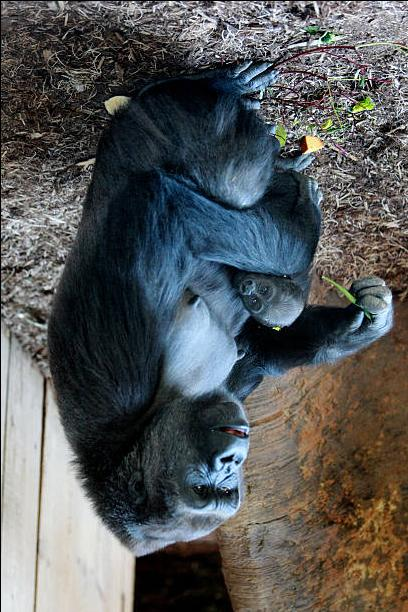gorille_Autres: (0, 57, 387, 612)
